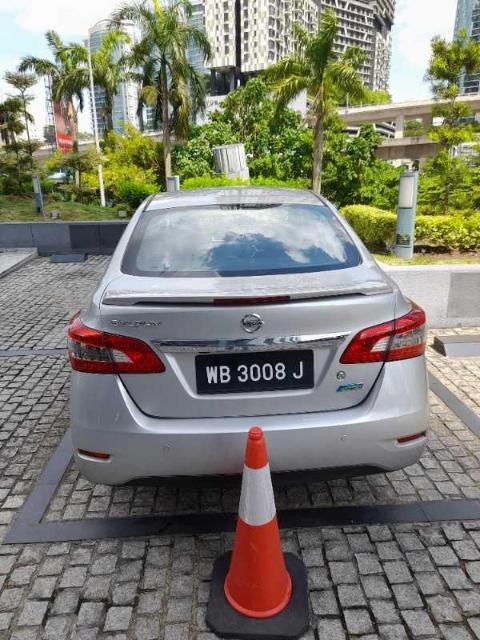License_Plate: (195, 349, 316, 396)
car: (67, 185, 430, 487)
